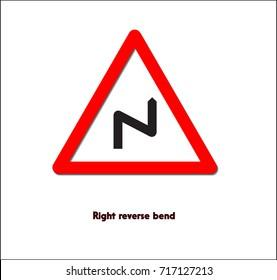Right Reverse Bend: (31, 25, 233, 195)
